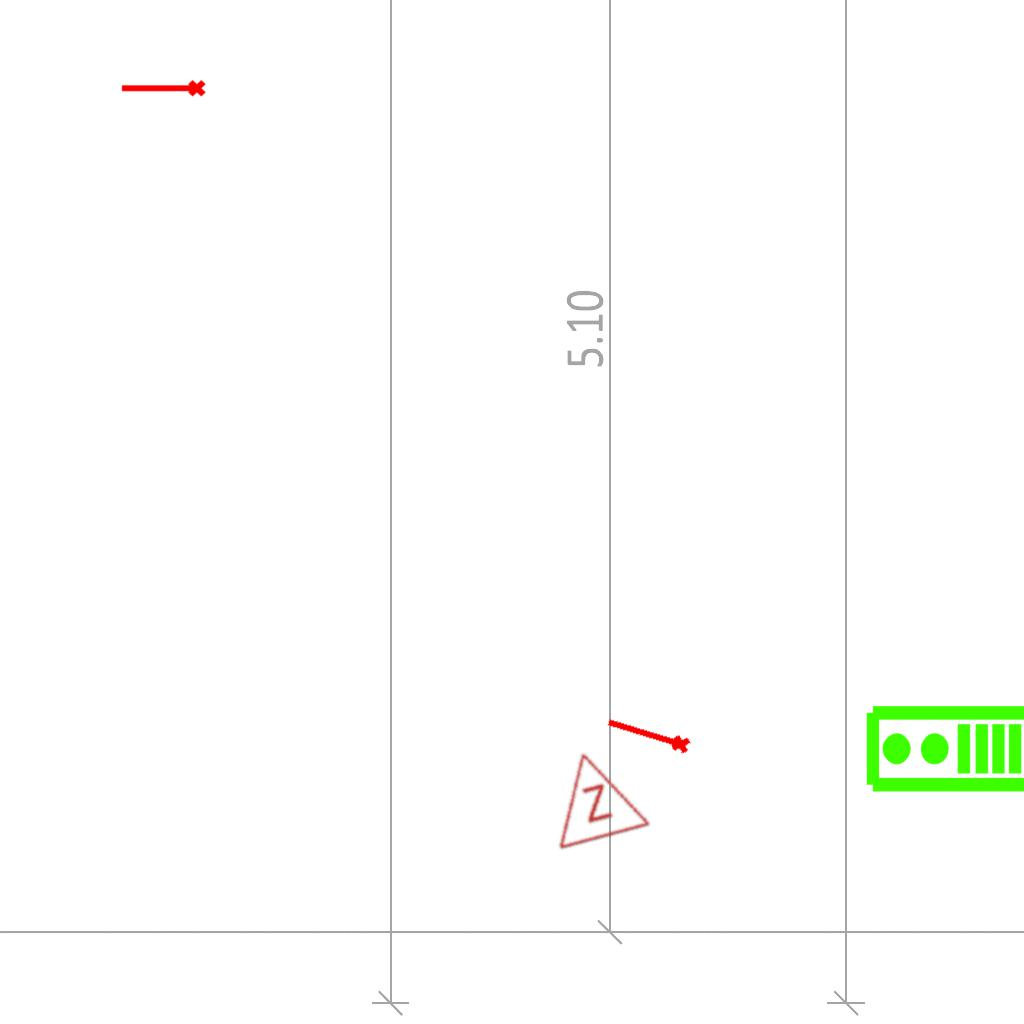ASR_Ansaugoeffnung: (602, 711, 694, 760), (119, 78, 207, 101)
Gegensprechanlage_mit_Video: (863, 703, 1024, 798)
Zimmersignalleuchte: (532, 735, 654, 857)
